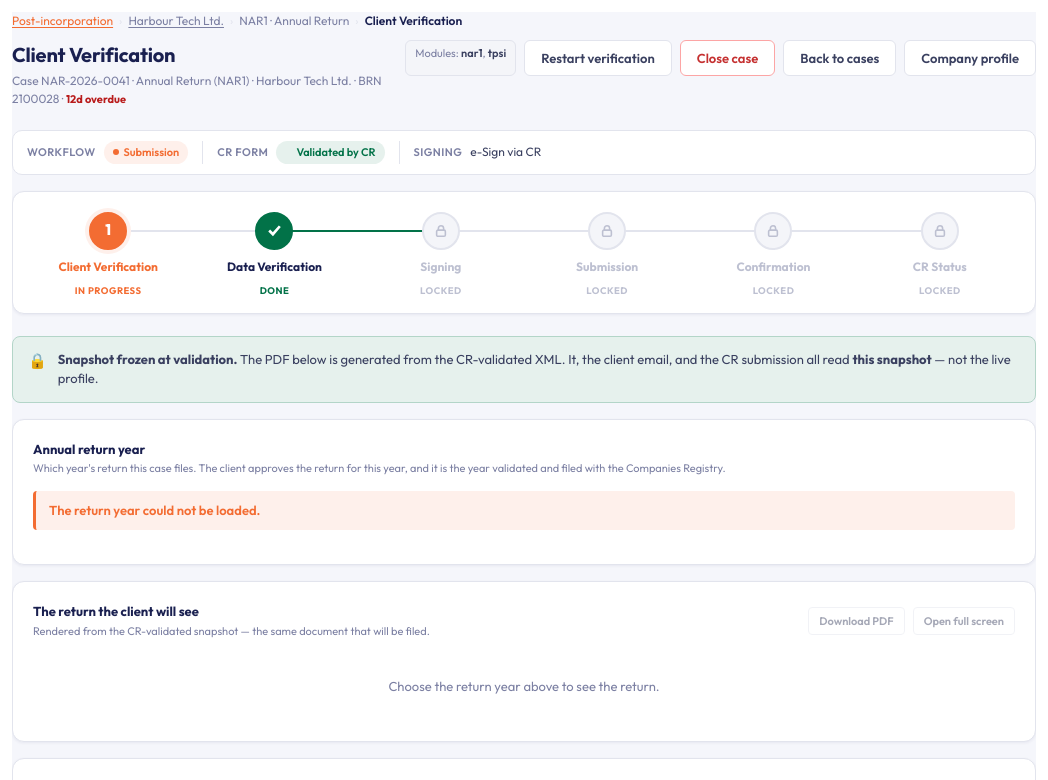
Test: CaseWorkflowPage — CR Status › clears the locked-stage note once the operator moves somewhere
Expected: the text "NAR-2026-0041" is shown, [41,73,130,88]
Click the tab "Signing Locked": (441, 230) [358,212,524,297]
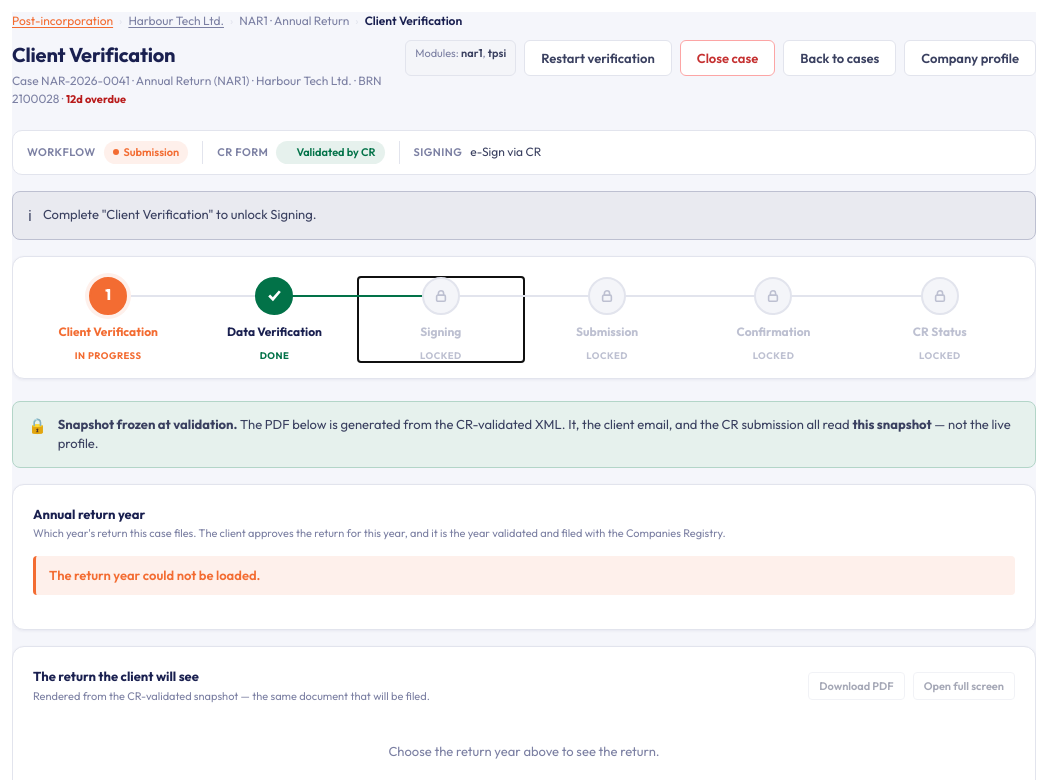
Result: the text "Complete \"Client Verification\" to unlock Signing." is shown at [43,204,316,224]
Click the tab "1 Client Verification In progress": (108, 296) [58,276,158,360]
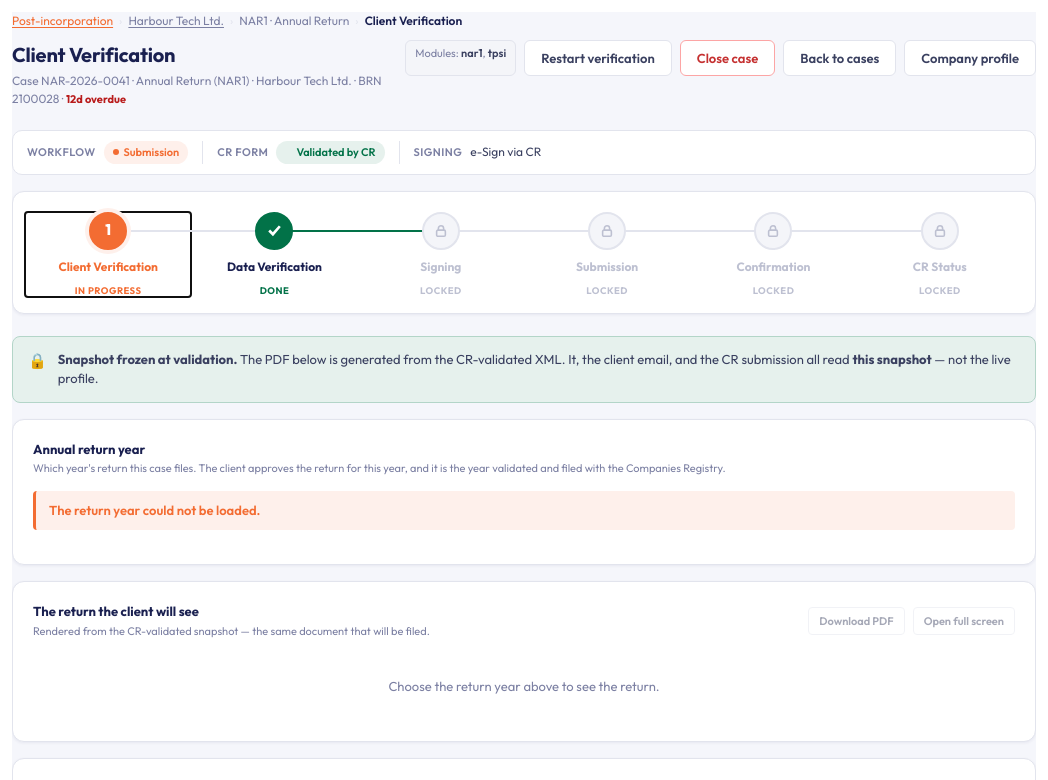
Result: the text "to unlock" is gone
